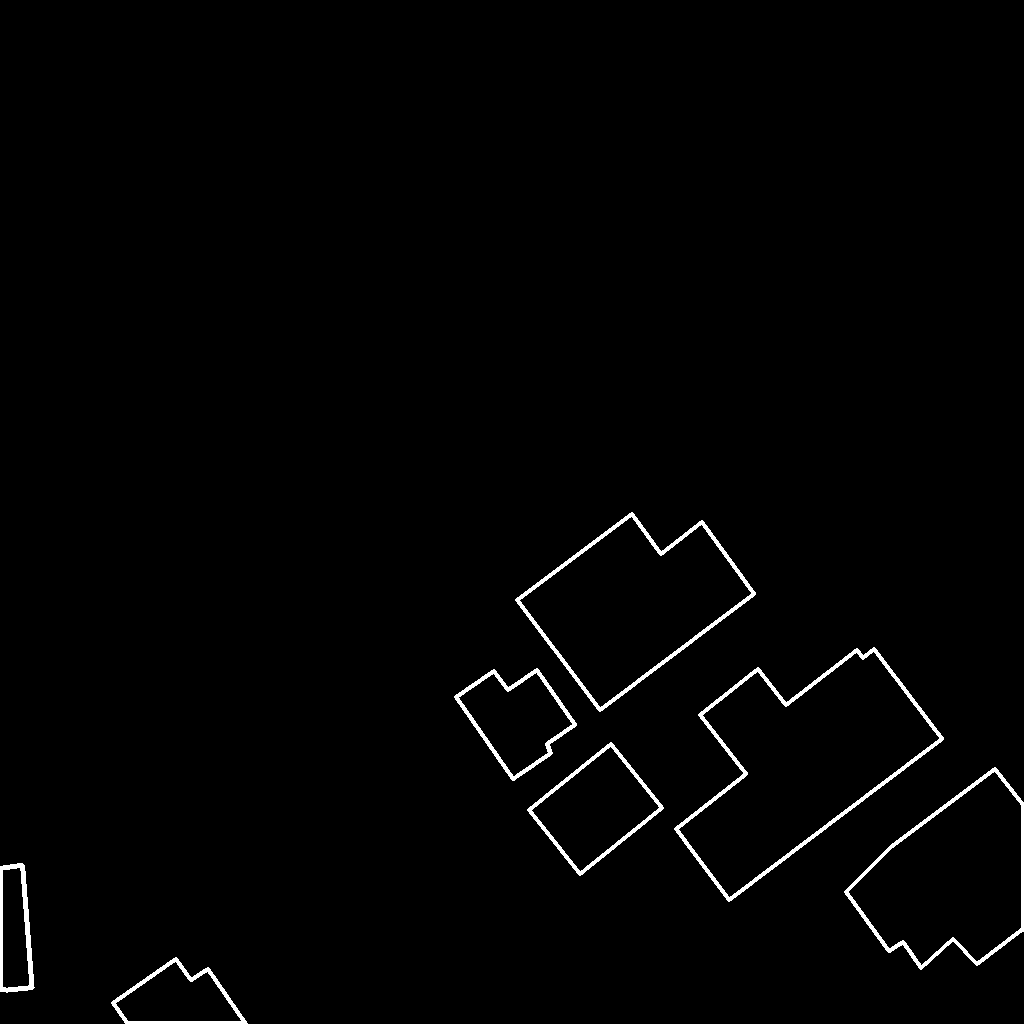building: (676, 649, 943, 901), (517, 514, 755, 711), (846, 769, 1024, 969), (529, 744, 663, 875), (456, 670, 576, 780), (113, 959, 247, 1024), (0, 865, 33, 991), (1021, 0, 1024, 1)
